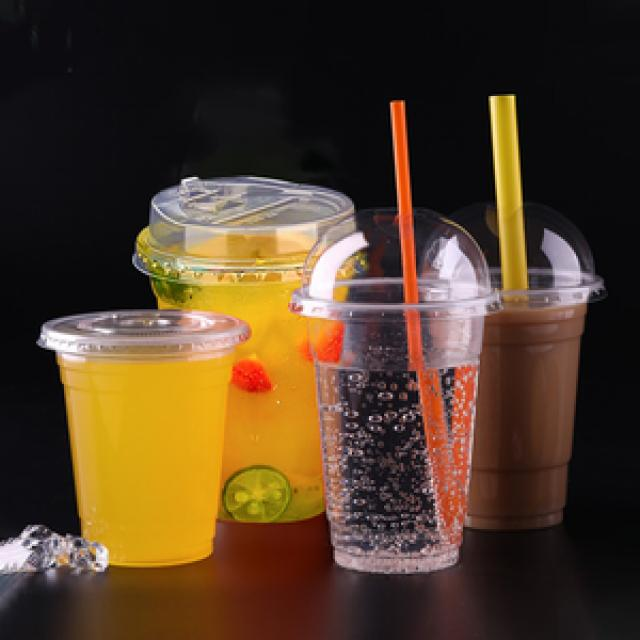plastic cup: (126, 173, 371, 527), (279, 205, 508, 576), (416, 205, 606, 535), (34, 305, 256, 572)
